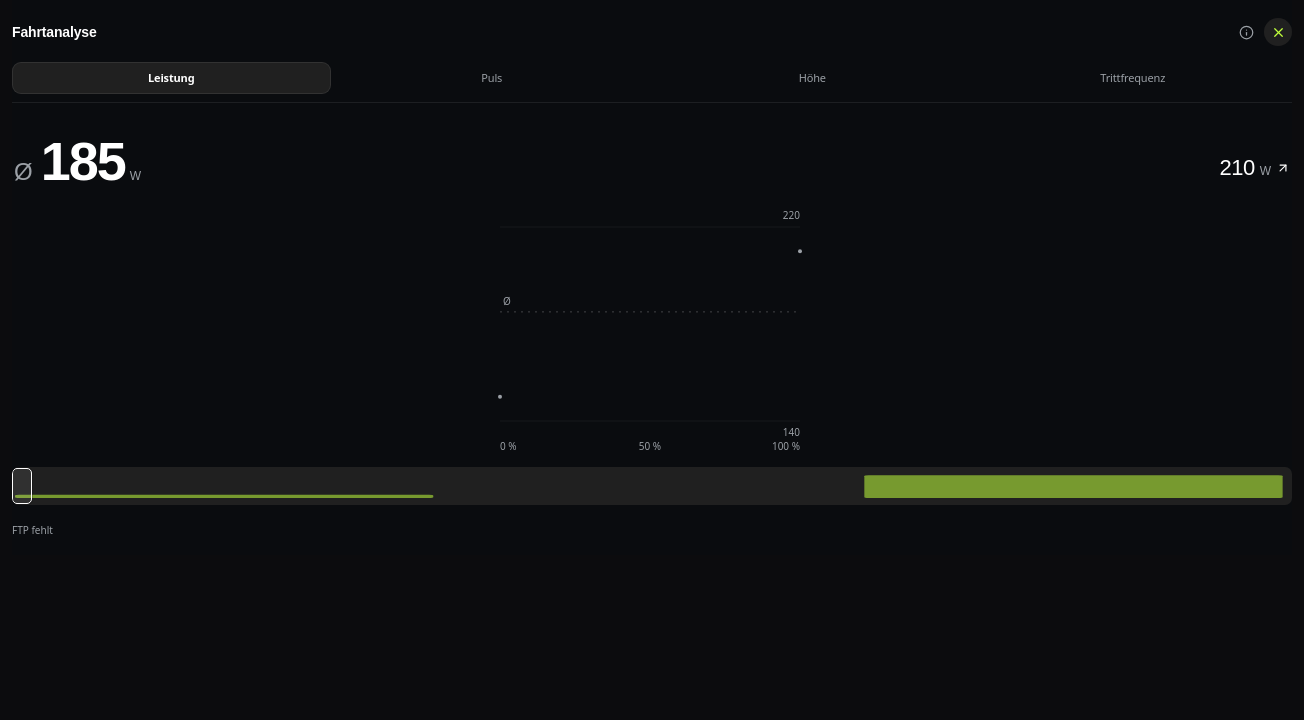
shows measured section grade and distance on the elevation profile
The width and height of the screenshot is (1304, 720).
Click the button "Höhe" at [812, 78], box 653,62 -> 972,94
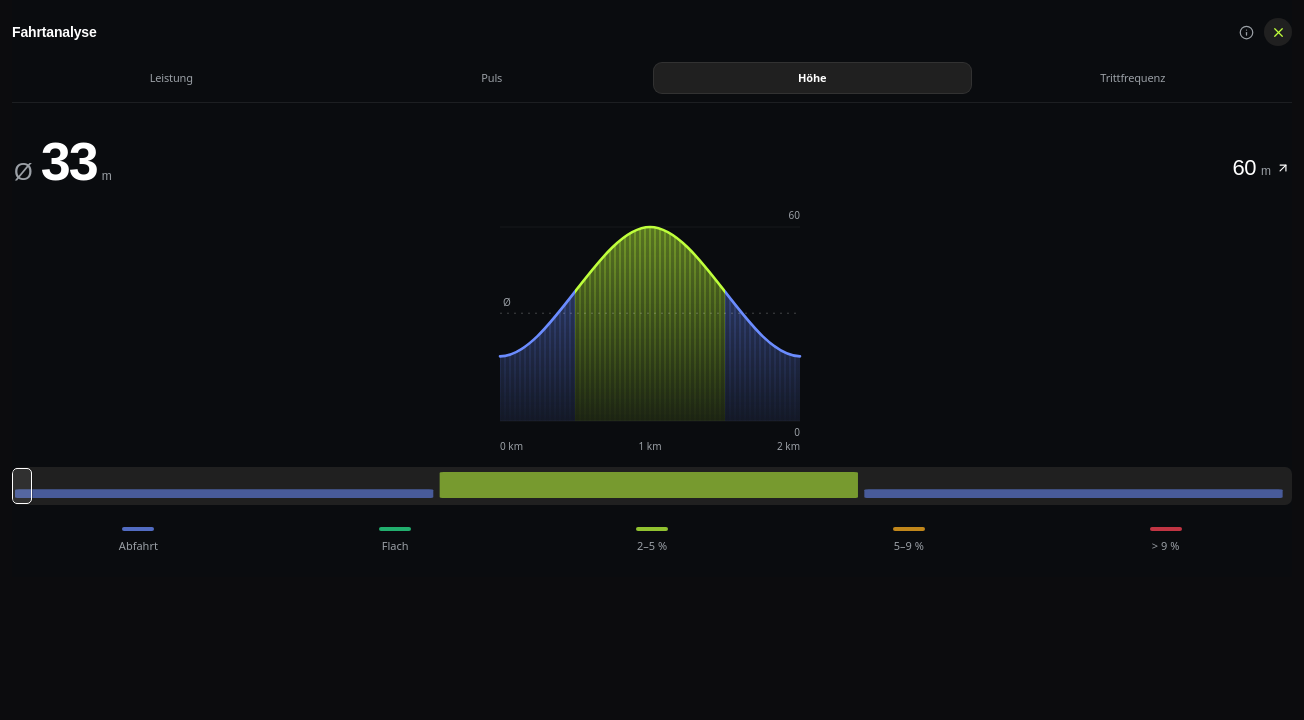
expect the button "5–9 %" is shown: met, box 782,521 -> 1035,560
Set the slider to "1" at [652, 486], box 12,467 -> 1292,505
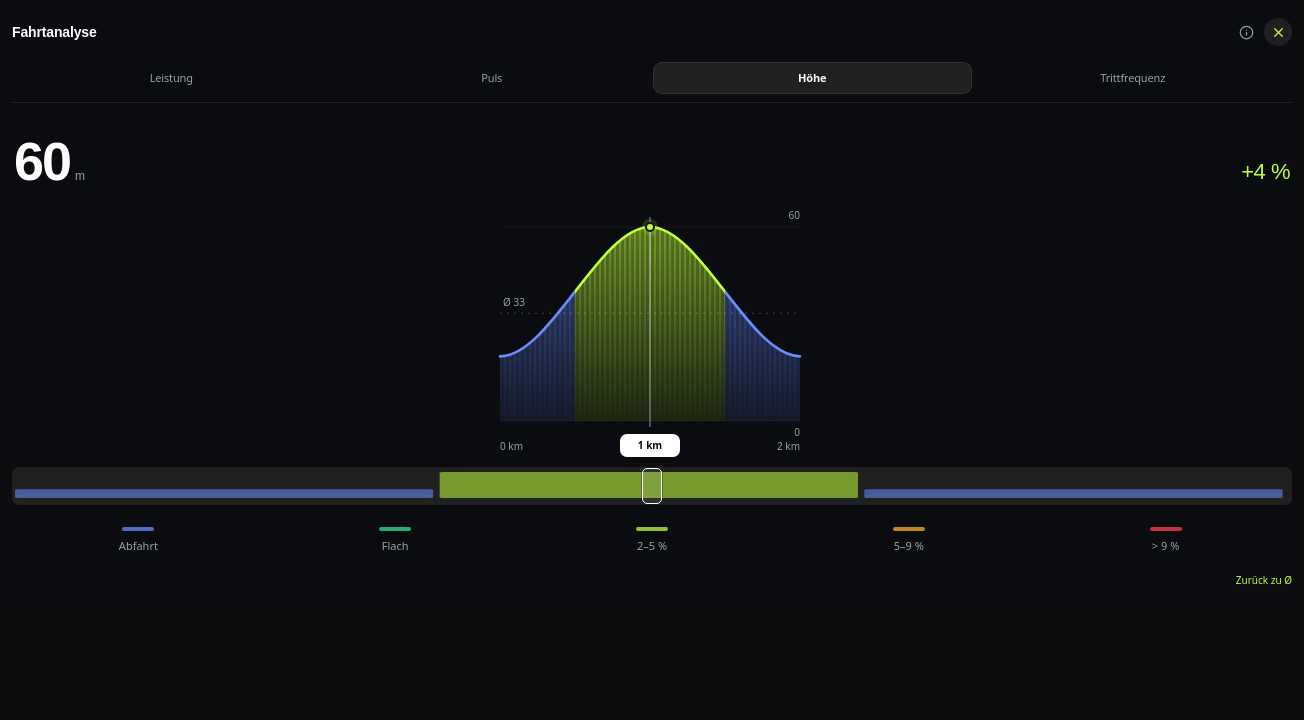
expect the picture named "Höhenverlauf der Fahrt" is shown: met, box 12,199 -> 1292,457
expect the text "+4 %" is shown: met, box 1241,161 -> 1290,183
